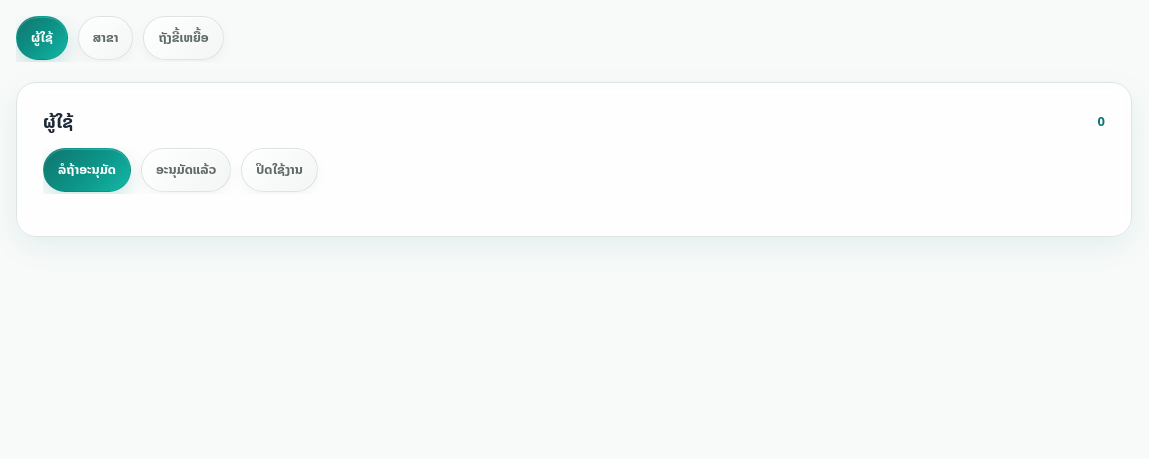
Scenario: Admin disabled-user lifecycle › keeps the branch selector disabled when the Admin role is selected
Click the button "ປິດໃຊ້ງານ" at (280, 170), box [241,148,318,192]
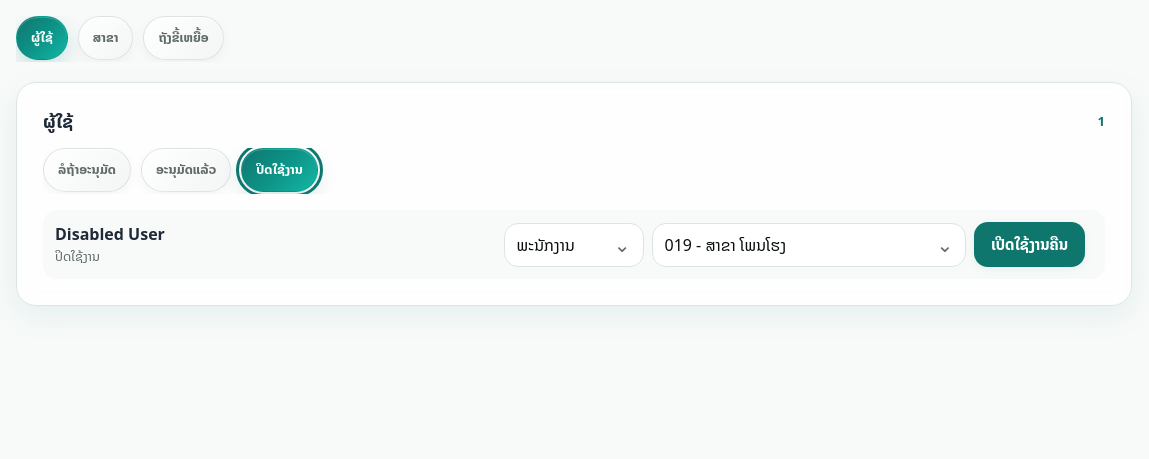
Click the dropdown labelled "ພະນັກງານ ⌄" at (574, 245), box [504,223,644,267]
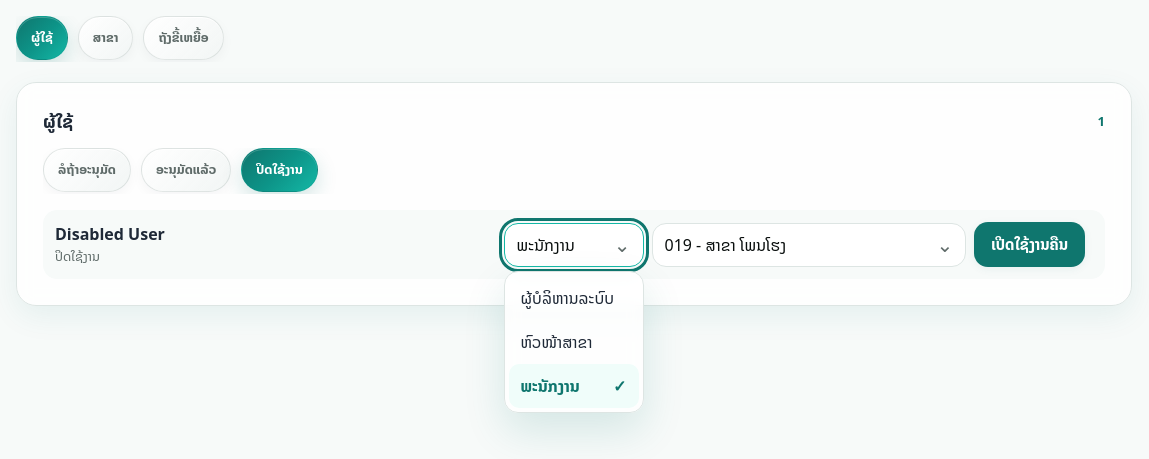
Click the option "ຜູ້ບໍລິຫານລະບົບ" at (574, 298), box [508,276,638,320]
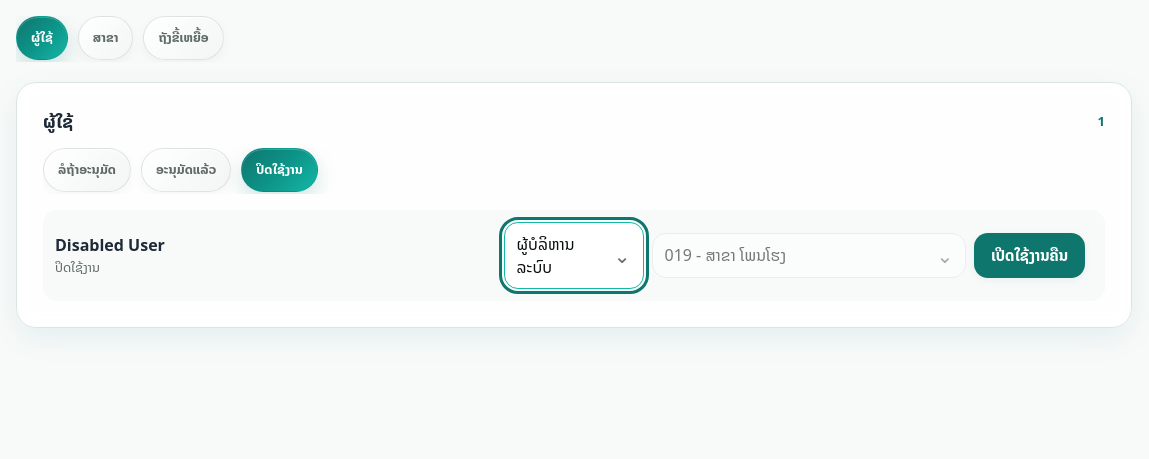
Expected: the dropdown labelled "019 - ສາຂາ ໂພນໂຮງ ⌄" is disabled, [652,233,966,278]
